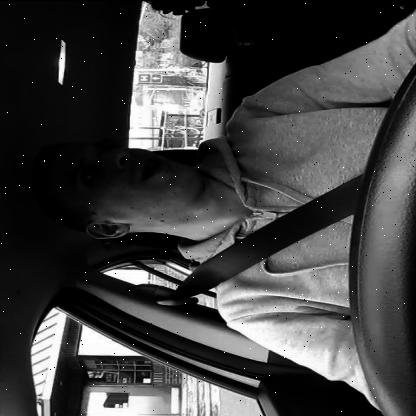seatbelt: (15, 110, 358, 287)
